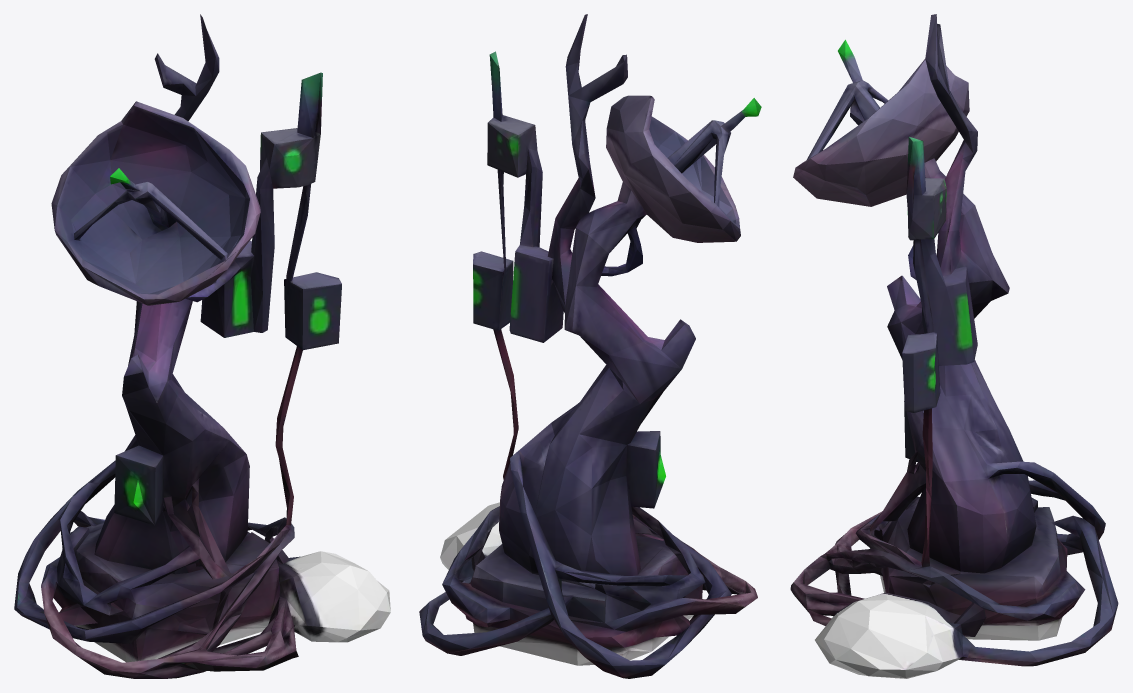
The model's file is antenna.glb.
The picture shows the model from 3 angles, left to right: view 1: azimuth 30°, elevation 25°; view 2: azimuth 150°, elevation 25°; view 3: azimuth 270°, elevation 25°; orthographic projection. The views are drawn at different scales.
Parts seen in each view (by area): view 1: geometry_0; view 2: geometry_0; view 3: geometry_0.
Boxes of the visible parts, x1,y1,x2,y2 form: geometry_0: (14, 14, 390, 678); geometry_0: (419, 14, 761, 678); geometry_0: (790, 14, 1118, 678).
Size of the model in its own units: 0.5416 by 1 by 0.4976.
Materials: 1 (1 with a texture image).
